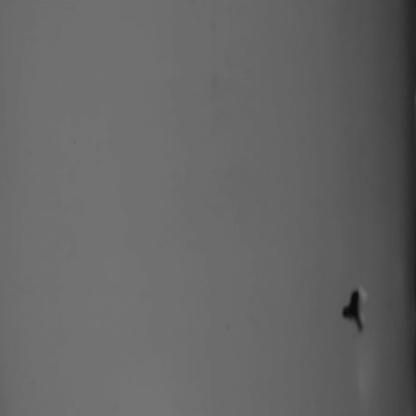kongdong: (337, 280, 373, 338)
